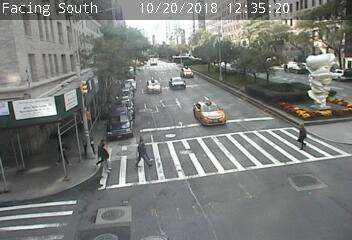car: (192, 100, 228, 125), (146, 79, 161, 93), (170, 77, 186, 88), (181, 67, 194, 78)
